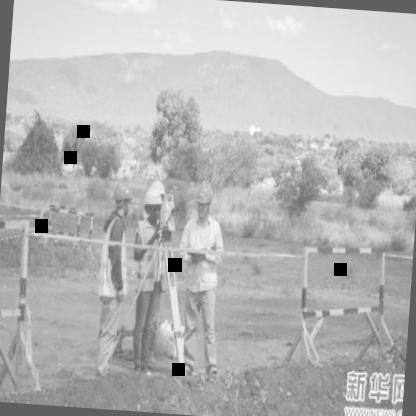helmet: (110, 176, 136, 217), (140, 186, 164, 226), (190, 182, 215, 219)
